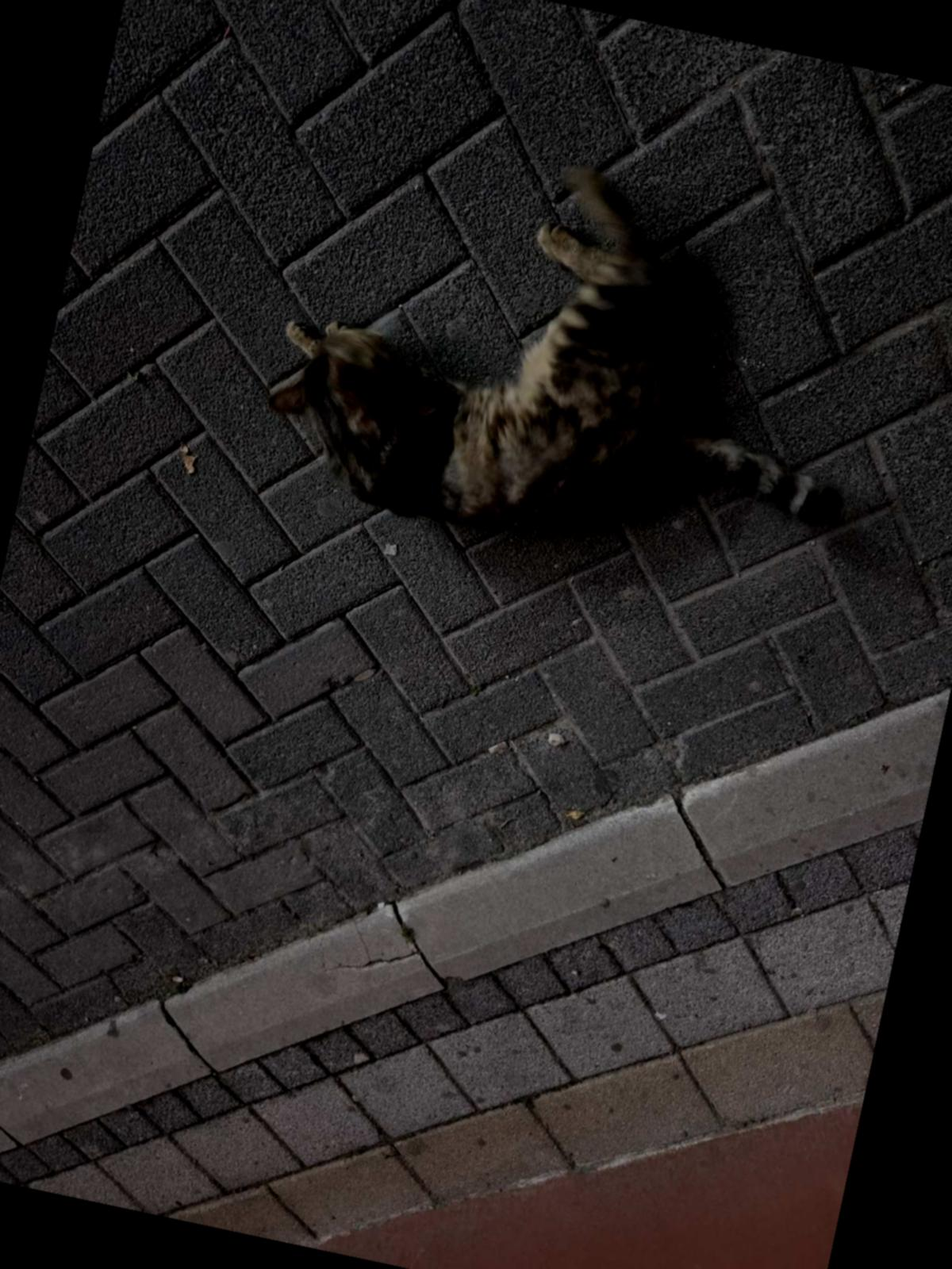macka: (246, 110, 897, 604)
